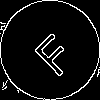F: (25, 25, 79, 79)
